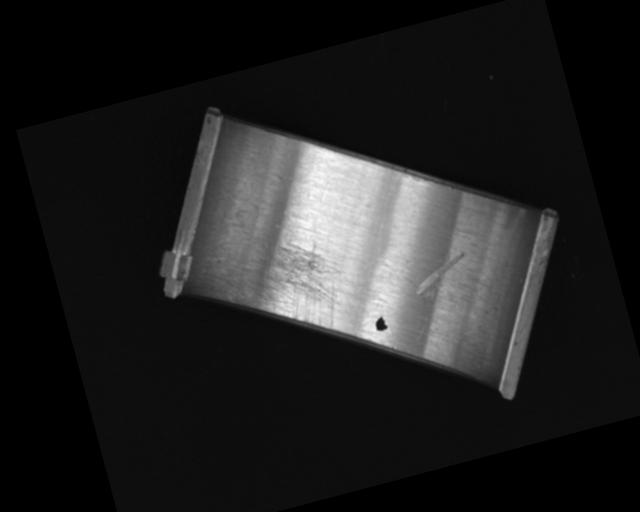blot: (372, 314, 388, 333)
nick: (408, 251, 474, 303), (396, 271, 435, 344)
scratch: (226, 229, 357, 352)
